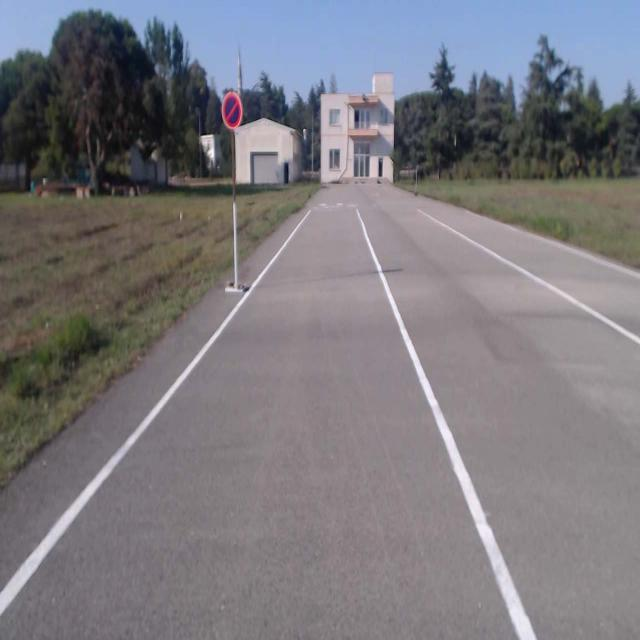parkyasak: (221, 92, 241, 129)
